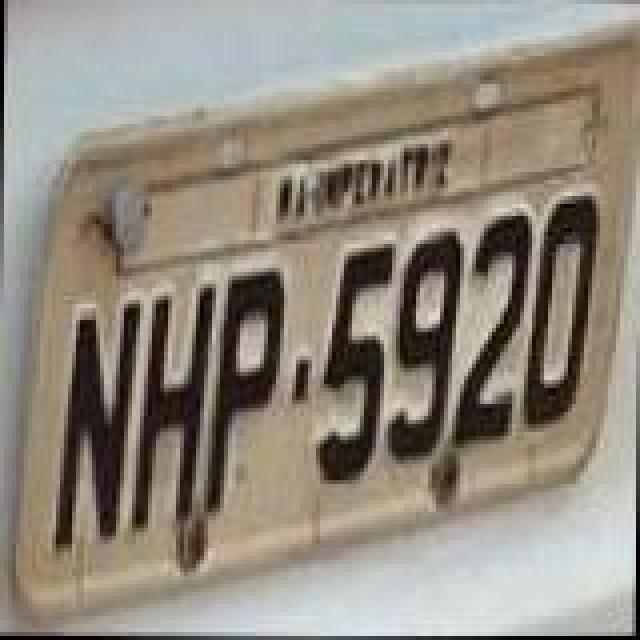2: (452, 210, 540, 450)
5: (314, 242, 398, 490)
9: (384, 230, 464, 466)
H: (130, 280, 218, 536)
N: (48, 298, 140, 558)
O: (518, 192, 602, 432)
P: (206, 262, 286, 514)
